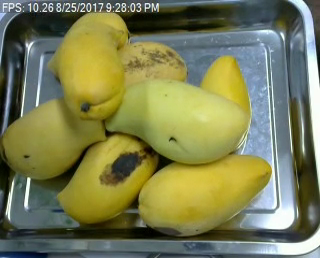Mango: (105, 79, 249, 166), (138, 154, 270, 237), (57, 129, 160, 220), (1, 95, 107, 179), (58, 24, 124, 122), (198, 54, 250, 137), (110, 40, 188, 93)
